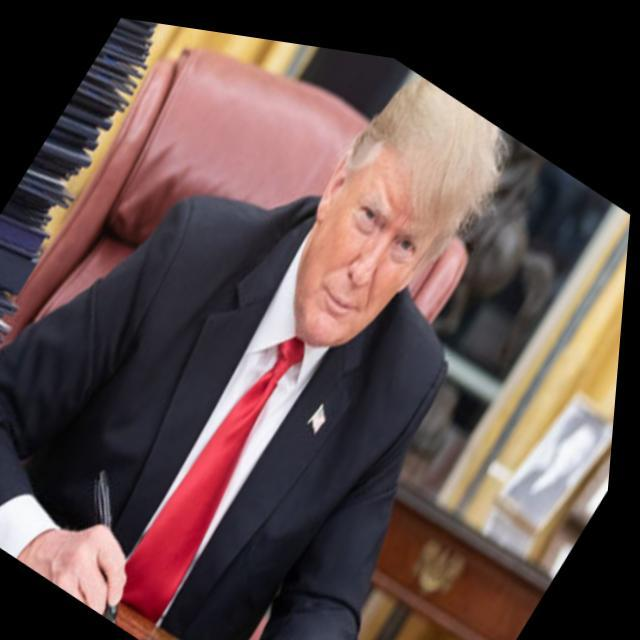Nonhelmet: (287, 71, 509, 349)
